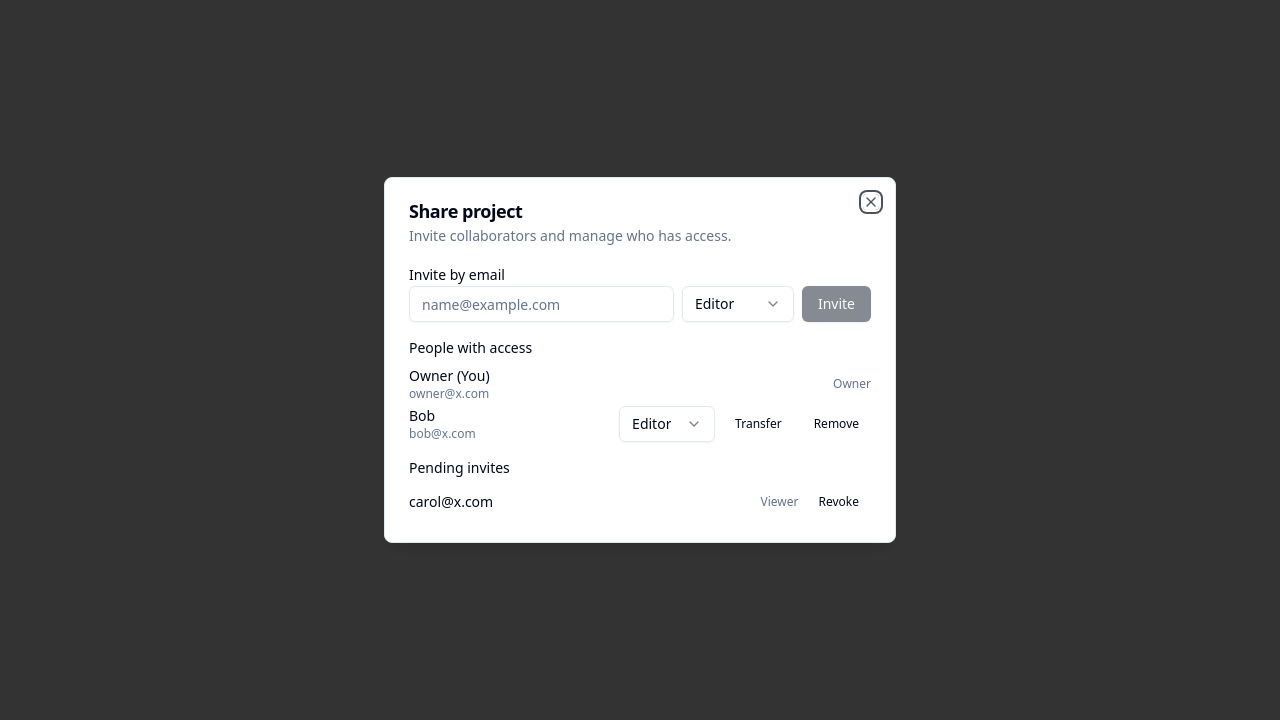
Test: ShareDialog (owner) › shows an inline error when the invite is rejected
The image size is (1280, 720).
Expected: the text "Bob" is shown, [409,406,435,425]
Type "bob@x.com" into the field labelled "Invite by email" at coordinates (541, 304), box [409,286,674,322]
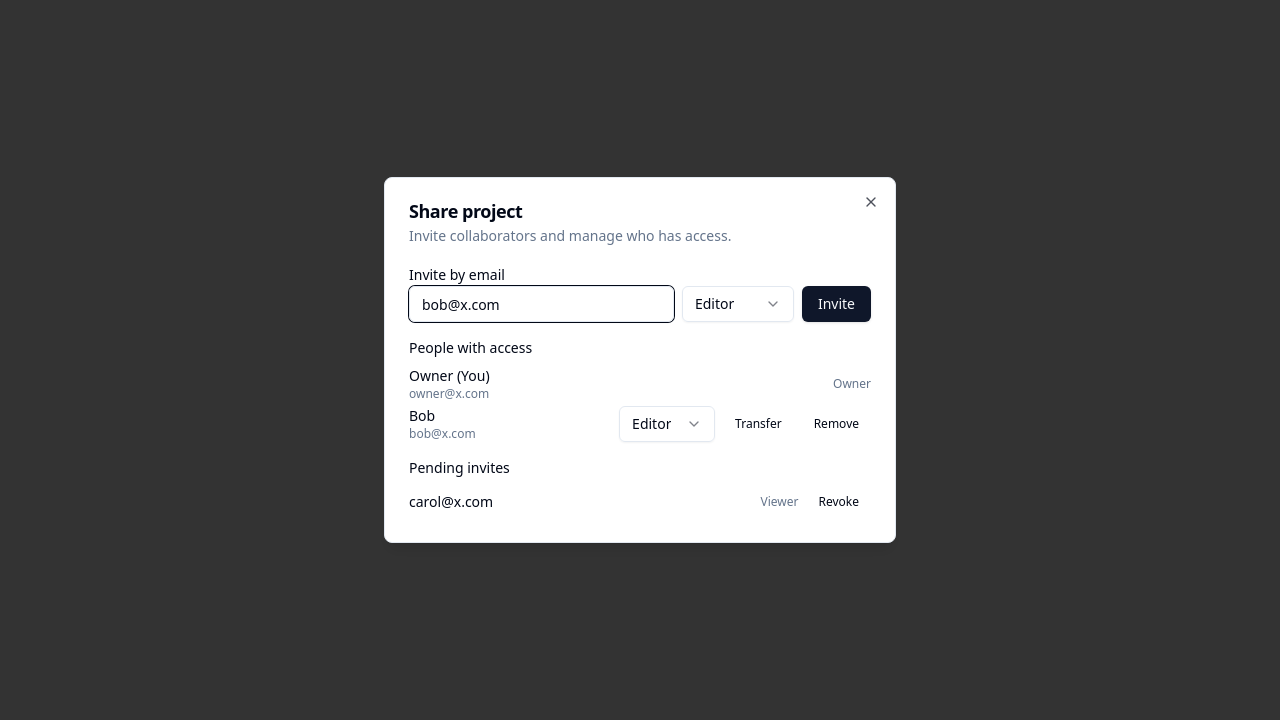
Click the button "Invite" at coordinates (836, 304), box [802,286,871,322]
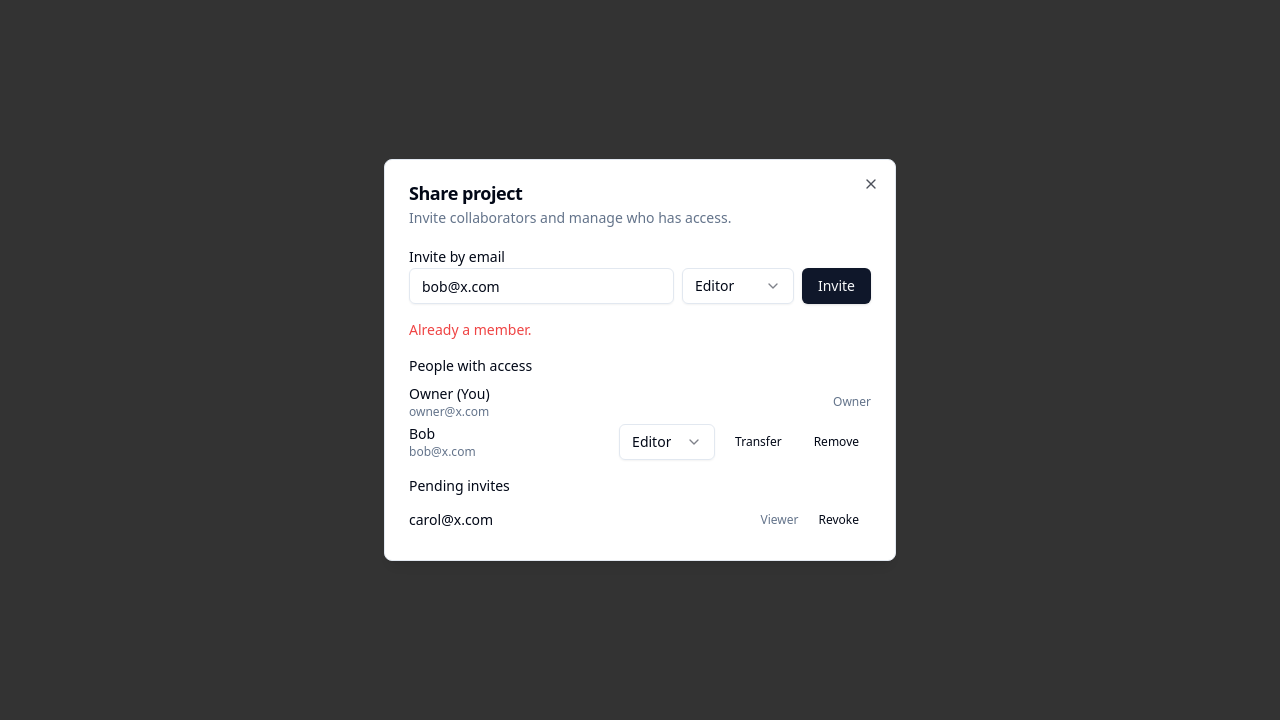
Expected: the message reads "Already a member.", [409,320,532,339]
